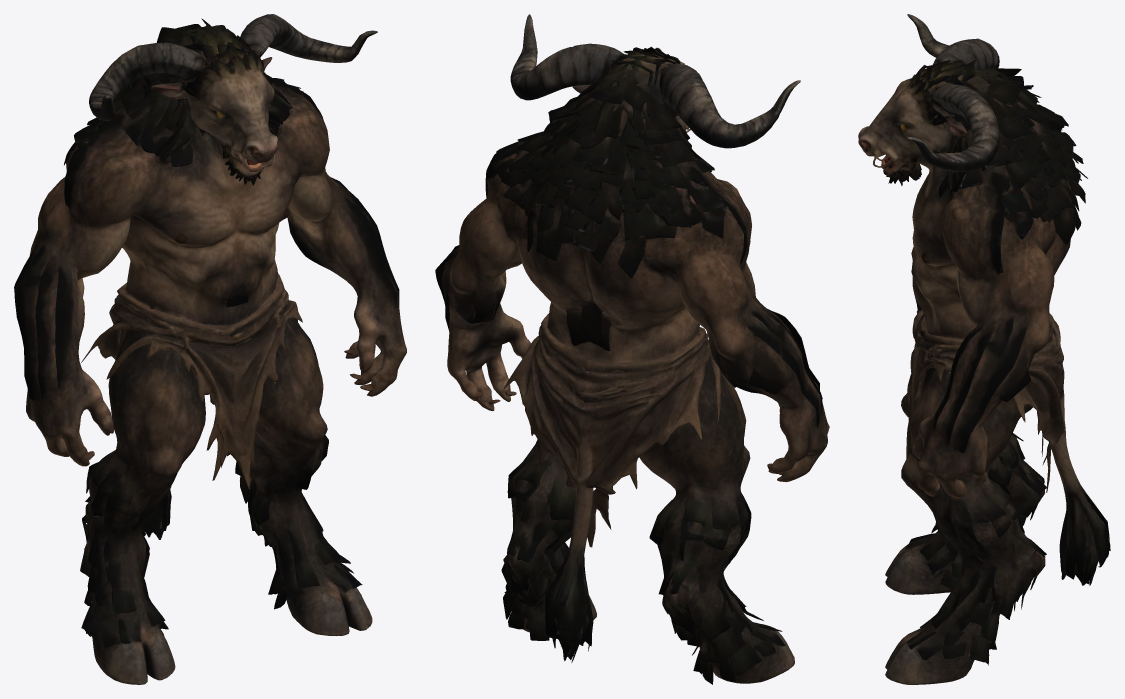
File: minotaur.glb
The picture shows the model from 3 angles, left to right: view 1: azimuth 30°, elevation 25°; view 2: azimuth 150°, elevation 25°; view 3: azimuth 270°, elevation 25°; orthographic projection. The views are drawn at different scales.
Visible parts, largest first — view 1: world; view 2: world; view 3: world.
Part boxes in pixels (bbox=[...]): world: bbox=[14, 14, 406, 684]; world: bbox=[435, 14, 829, 684]; world: bbox=[858, 14, 1110, 684].
Size of the model in its own units: 0.6491 by 1 by 0.4079.
Materials: 1 (1 with a texture image).
